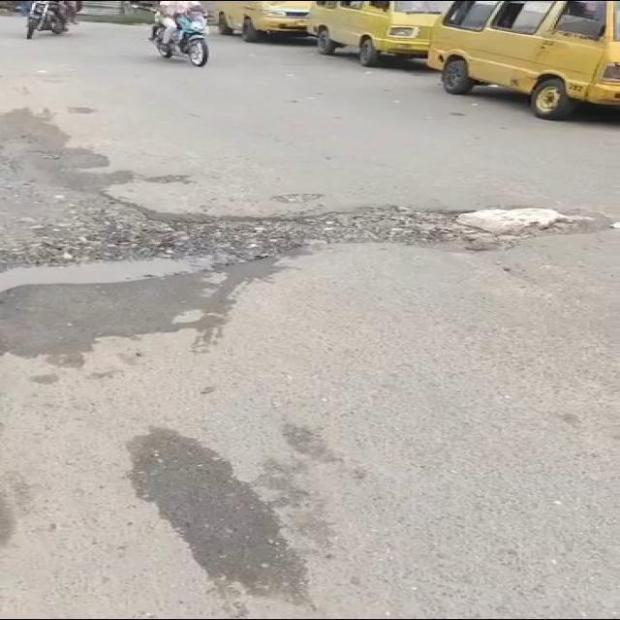lubang: (0, 196, 612, 292), (271, 195, 324, 203)
